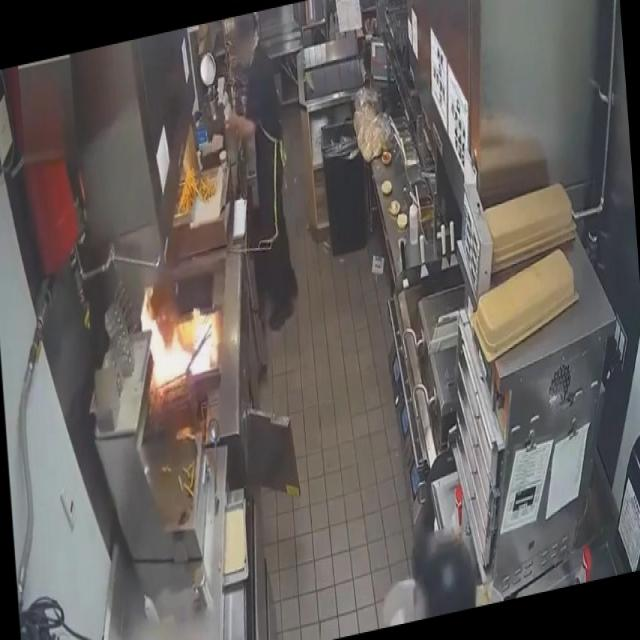fire: (114, 249, 230, 418)
